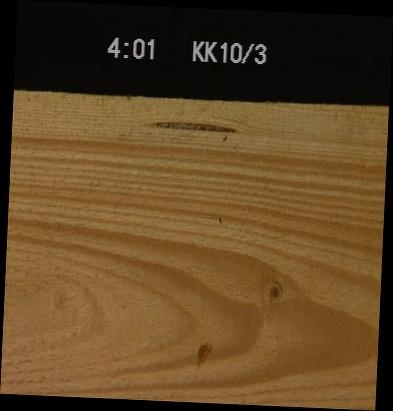sound_knot: (260, 275, 283, 307)
